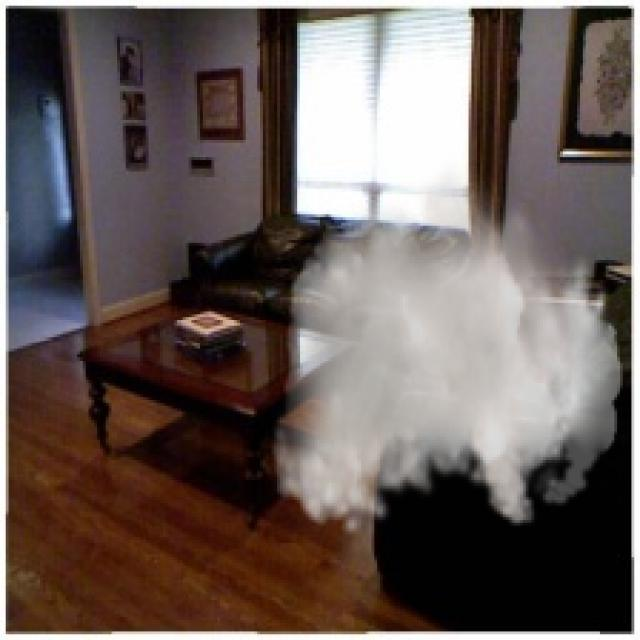Smoke: (272, 154, 622, 537)
